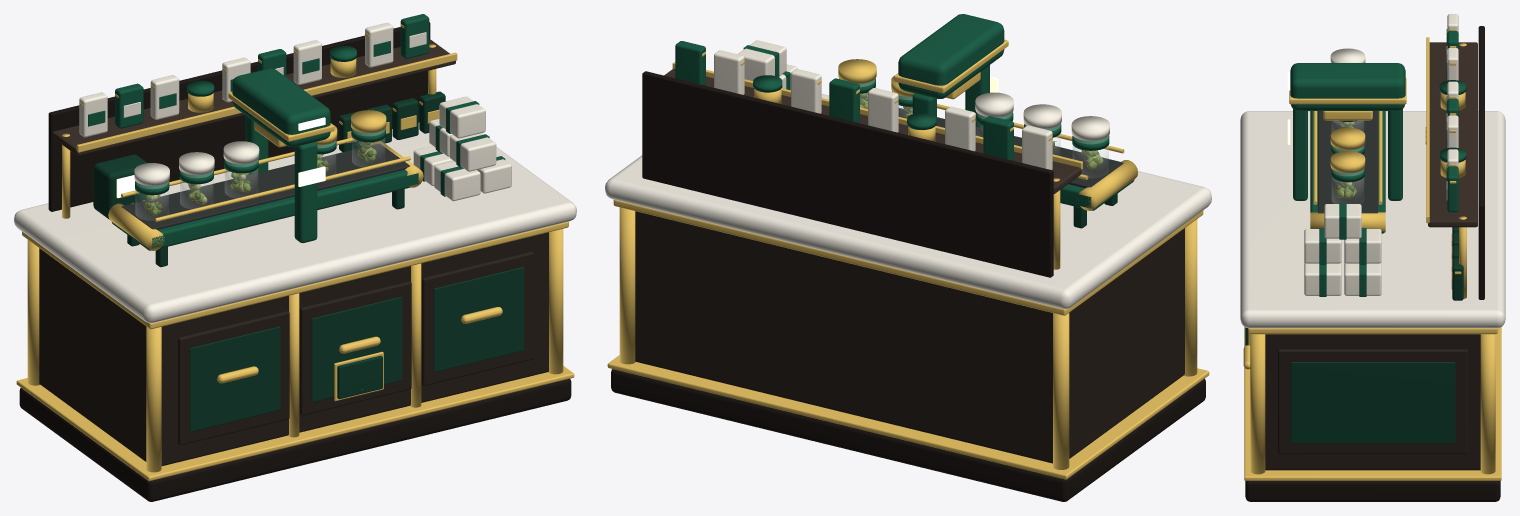
Rendered from pack_bench_founder.glb.
3 views of the same model, side by side, from view 1: azimuth 30°, elevation 25°; view 2: azimuth 150°, elevation 25°; view 3: azimuth 270°, elevation 25° (orthographic). The views are drawn at different scales.
Visible parts, largest first — view 1: Top, Body, Plinth, ShelfBack, DrawerInset2, DrawerInset0, PlinthBrass, ConvBelt, DrawerInset1, ConvFrame, Drawer0, Drawer2 (+40 smaller); view 2: Body, ShelfBack, Top, Plinth, PlinthBrass, SealerHead, TopBand, Column-11, Column11, Column-1-1, Shelf, ConvBelt (+18 smaller); view 3: Top, EndInset, Body, EndPanel, Shelf, Plinth, SealerHead, PlinthBrass, ConvBelt, Column1-1, Column11, ShelfBack (+25 smaller).
Boxes of the visible parts, left/top/right/bottom form: Top: left=14, top=122, right=576, bottom=323; Body: left=39, top=232, right=548, bottom=465; Plinth: left=19, top=378, right=571, bottom=501; ShelfBack: left=48, top=22, right=430, bottom=211; DrawerInset2: left=433, top=267, right=524, bottom=372; DrawerInset0: left=189, top=326, right=280, bottom=431; PlinthBrass: left=16, top=366, right=574, bottom=481; ConvBelt: left=121, top=143, right=409, bottom=229; DrawerInset1: left=311, top=296, right=402, bottom=402; ConvFrame: left=112, top=148, right=418, bottom=250; Drawer0: left=178, top=311, right=289, bottom=445; Drawer2: left=422, top=251, right=533, bottom=385; Body: left=635, top=211, right=1184, bottom=463; ShelfBack: left=642, top=71, right=1053, bottom=277; Top: left=605, top=94, right=1211, bottom=309; Plinth: left=611, top=369, right=1205, bottom=501; PlinthBrass: left=607, top=355, right=1209, bottom=479; SealerHead: left=898, top=14, right=1004, bottom=99; TopBand: left=613, top=199, right=1203, bottom=315; Column-11: left=1053, top=313, right=1069, bottom=469; Column11: left=619, top=207, right=635, bottom=364; Column-1-1: left=1184, top=219, right=1197, bottom=376; Shelf: left=664, top=68, right=1081, bottom=193; ConvBelt: left=860, top=98, right=1123, bottom=188; Top: left=1240, top=111, right=1505, bottom=328; EndInset: left=1290, top=362, right=1455, bottom=443; Body: left=1265, top=334, right=1480, bottom=470; EndPanel: left=1278, top=349, right=1467, bottom=454; Shelf: left=1428, top=42, right=1477, bottom=227; Plinth: left=1245, top=481, right=1500, bottom=501; SealerHead: left=1290, top=63, right=1405, bottom=110; PlinthBrass: left=1244, top=327, right=1501, bottom=480; ConvBelt: left=1318, top=111, right=1377, bottom=213; Column1-1: left=1250, top=334, right=1265, bottom=474; Column11: left=1480, top=334, right=1495, bottom=474; ShelfBack: left=1478, top=26, right=1484, bottom=299.
Bounding box in the file's own units: 1.94 × 1.41 × 1.06.
